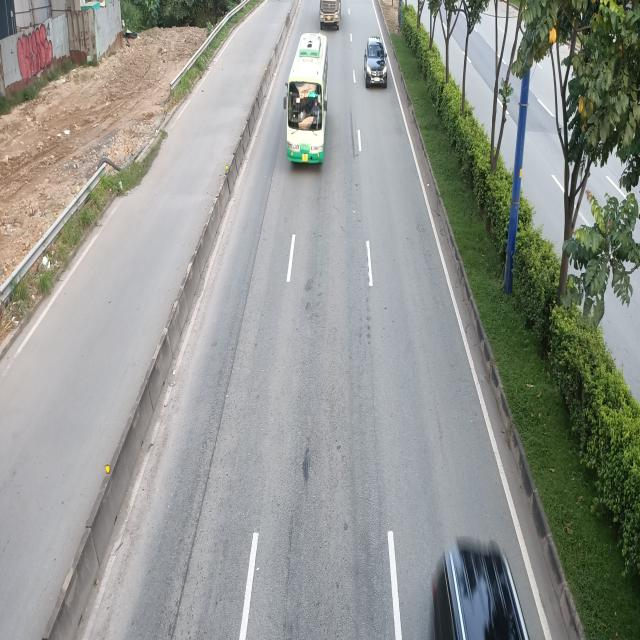car: (364, 37, 390, 89)
coach: (282, 34, 328, 166)
